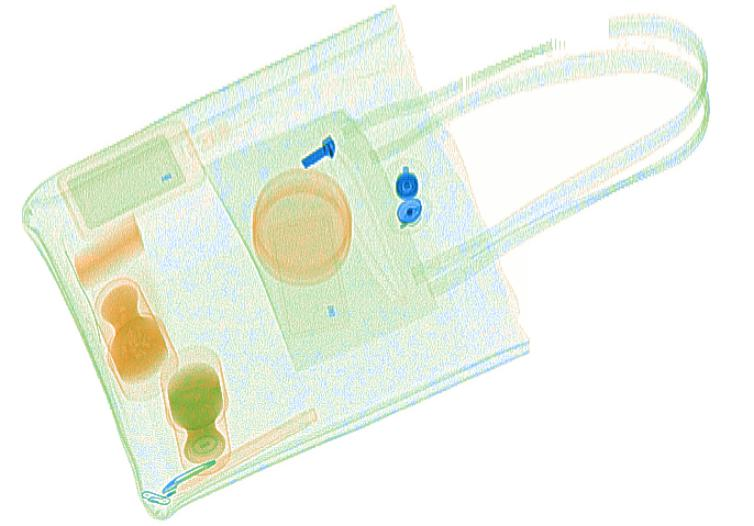seal: (98, 284, 167, 385), (163, 362, 225, 464)
